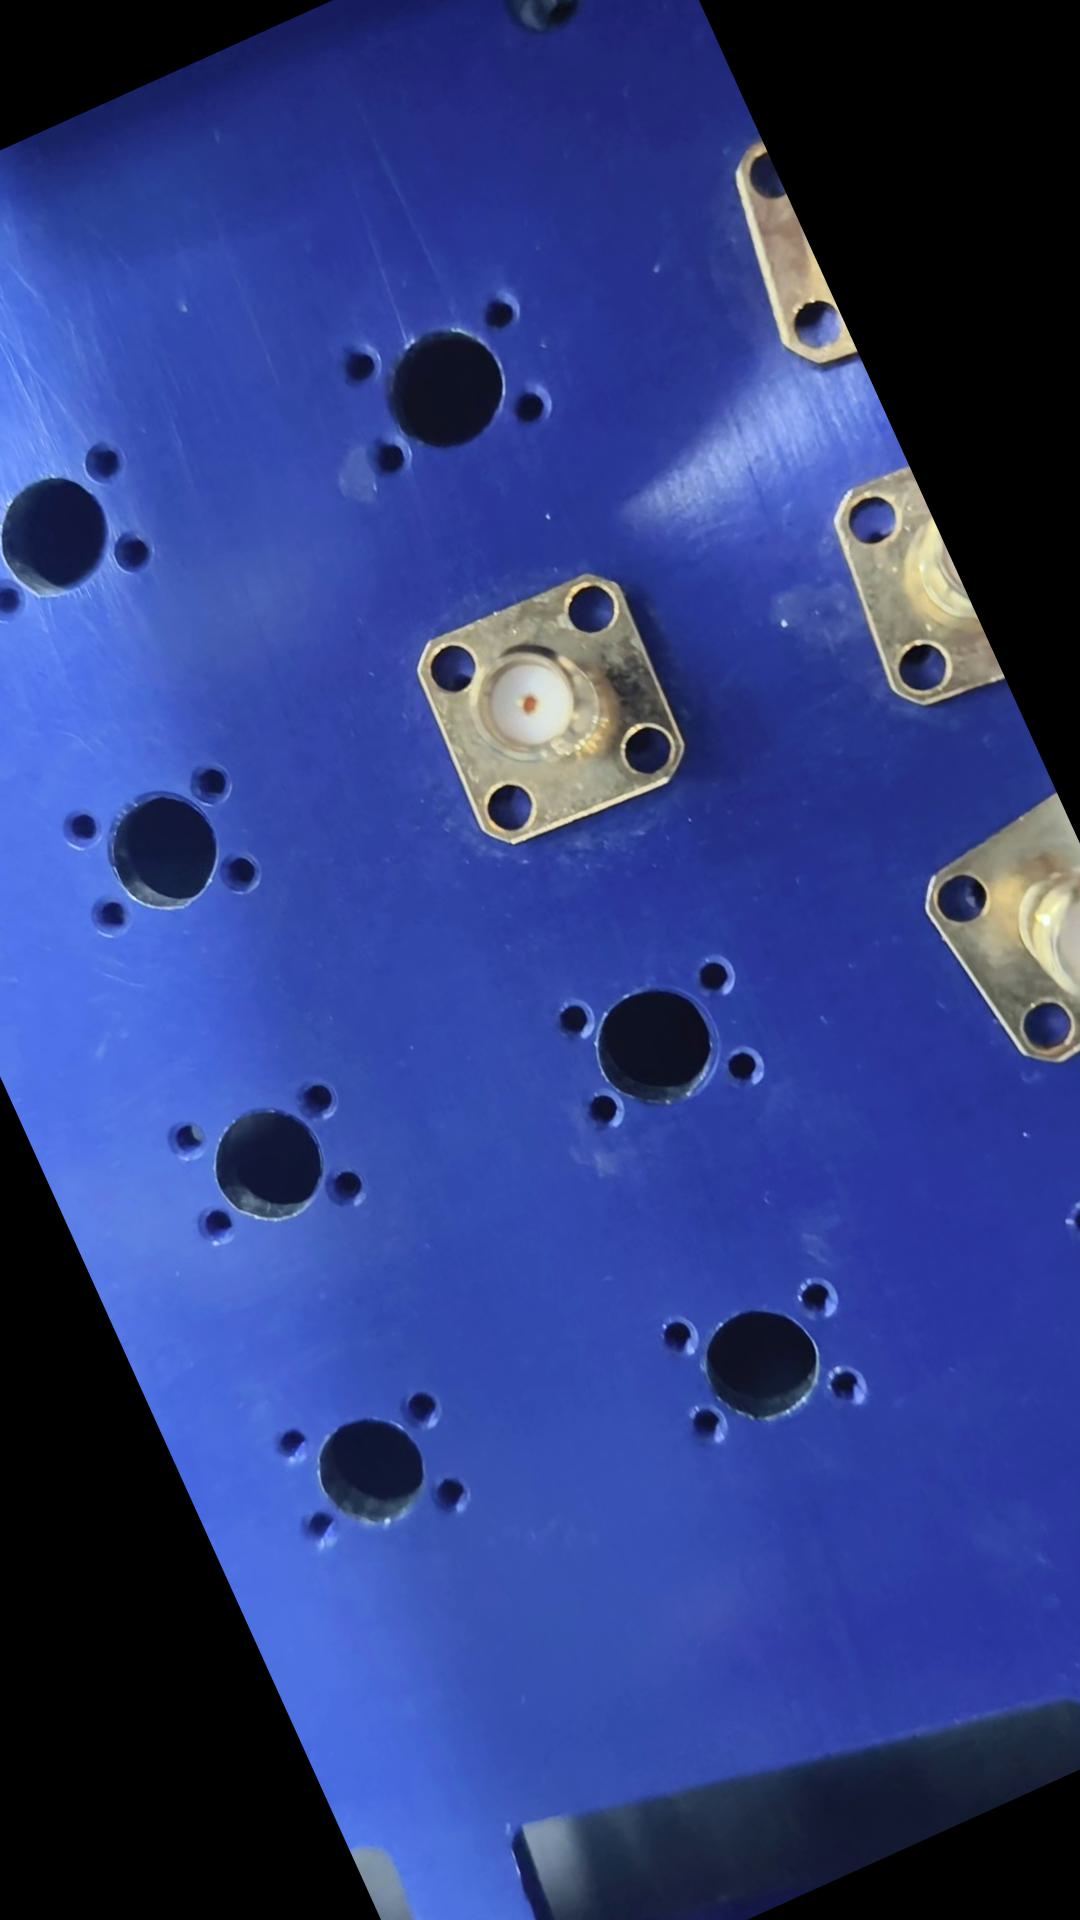SMA: (396, 559, 708, 866)
